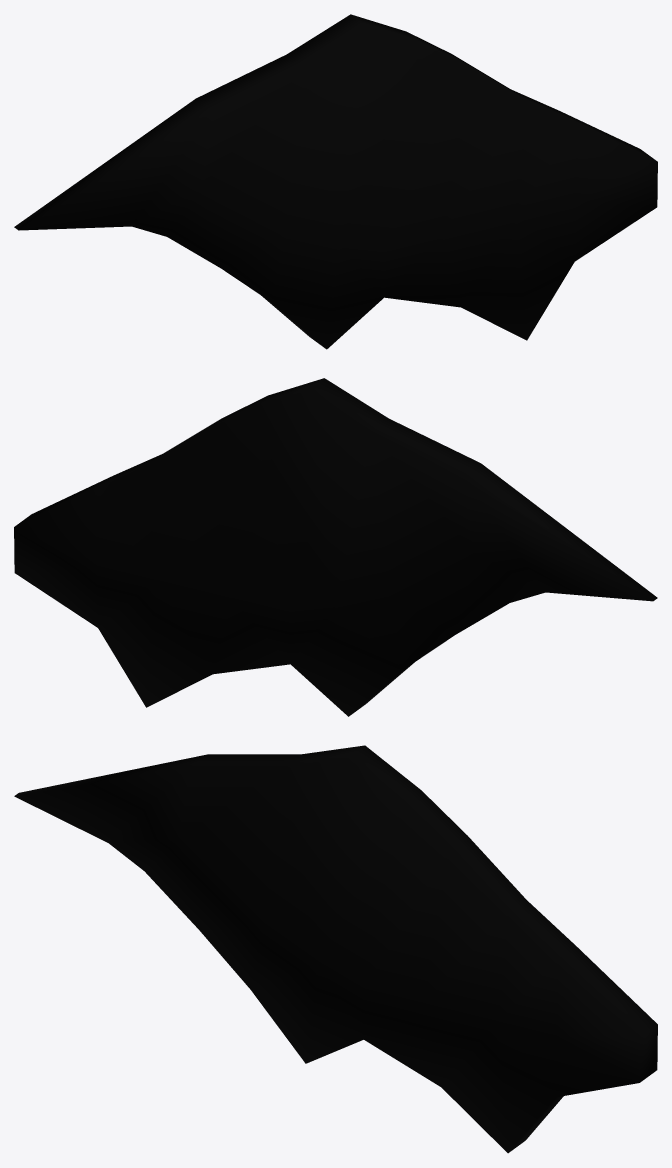
The model's file is Wing_L.obj.
The picture shows the model from 3 angles, top to bottom: view 1: azimuth 30°, elevation 25°; view 2: azimuth 150°, elevation 25°; view 3: azimuth 330°, elevation 25°; orthographic projection.
Parts seen in each view (by area): view 1: E_Wing_L; view 2: E_Wing_L; view 3: E_Wing_L.
Part boxes in pixels (<box>): E_Wing_L: <box>14,14,657,349</box>; E_Wing_L: <box>14,378,657,716</box>; E_Wing_L: <box>14,745,657,1153</box>.
Size of the model in its own units: 2.67 by 1.43 by 0.1286.
Materials: 1 (1 with a texture image).
